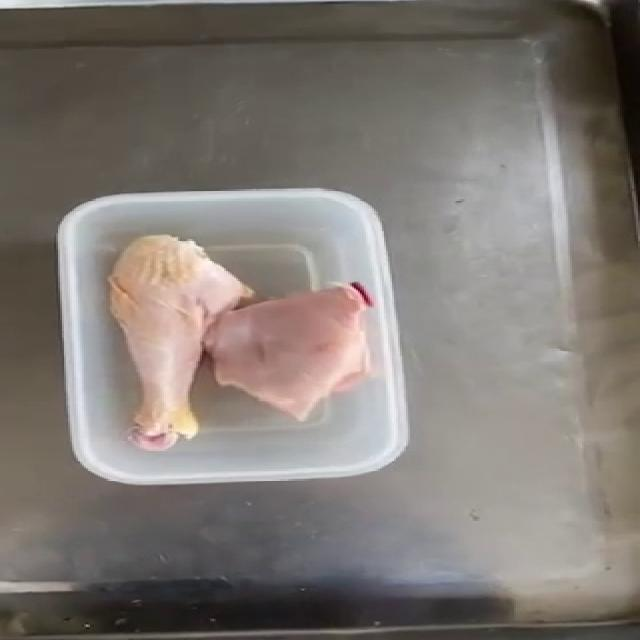chicken: (105, 233, 254, 451), (202, 280, 374, 422)
